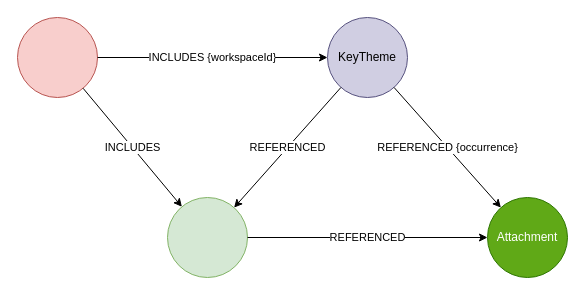
The diagram is 585 pixels wide and 295 high, and some of its shapes have lost their labels. The shapes that lost their labels are listed below. From the top down, each one's centre as x and y in pixels, then its label:
At point (57, 57): "Workspace Note".
At point (207, 237): "Workspace".
